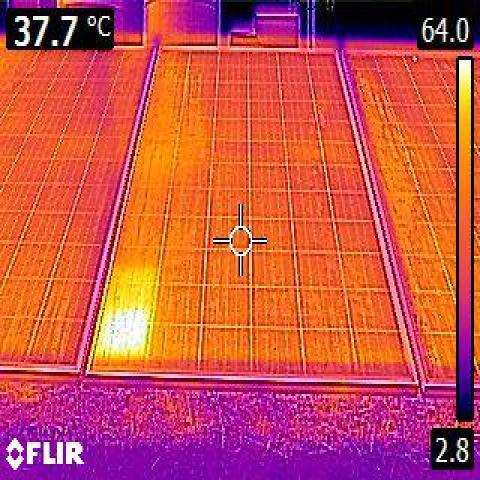fault: (101, 310, 145, 357)
